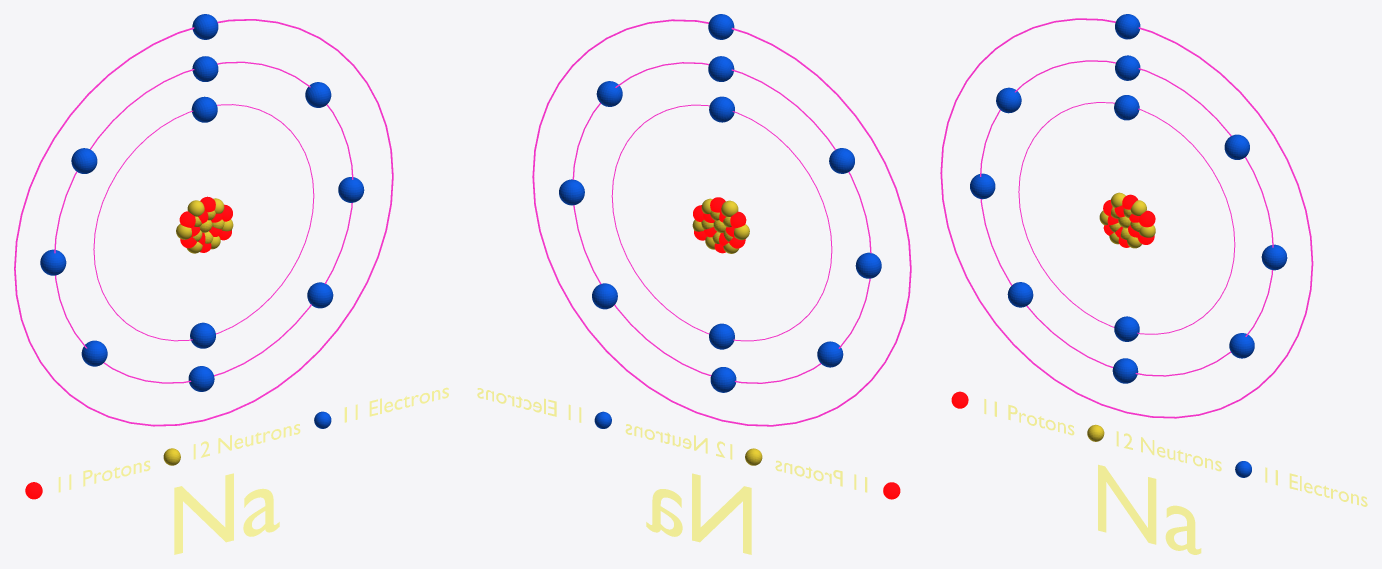
File: sodium.glb
3 views of the same model, side by side, from view 1: azimuth 30°, elevation 25°; view 2: azimuth 150°, elevation 25°; view 3: azimuth 330°, elevation 25° (orthographic).
Visible parts, largest first — view 1: BézierCircle.002, Text, BézierCircle.001, BézierCircle, Text.002, Text.003, Sphere.033, Sphere.002, Sphere.030, Sphere.026, Sphere.032, Sphere.016 (+5 smaller); view 2: BézierCircle.002, Text, BézierCircle.001, BézierCircle, Text.002, Text.003, Sphere.009, Sphere.016, Sphere.030, Sphere.002, Sphere.032, Sphere.001 (+5 smaller); view 3: BézierCircle.002, Text, BézierCircle.001, BézierCircle, Text.002, Text.003, Sphere.001, Sphere.009, Sphere.002, Sphere.030, Sphere.015, Sphere.016 (+5 smaller).
Boxes of the visible parts, x1=… form: BézierCircle.002: x1=14, y1=19, x2=393, y2=426; Text: x1=174, y1=473, x2=279, y2=554; BézierCircle.001: x1=54, y1=61, x2=353, y2=383; BézierCircle: x1=93, y1=104, x2=314, y2=341; Text.002: x1=193, y1=424, x2=300, y2=459; Text.003: x1=344, y1=387, x2=448, y2=422; Sphere.033: x1=192, y1=14, x2=218, y2=39; Sphere.002: x1=191, y1=96, x2=217, y2=122; Sphere.030: x1=307, y1=282, x2=333, y2=308; Sphere.026: x1=71, y1=148, x2=97, y2=173; Sphere.032: x1=188, y1=366, x2=214, y2=391; Sphere.016: x1=40, y1=249, x2=66, y2=275; BézierCircle.002: x1=532, y1=19, x2=911, y2=426; Text: x1=646, y1=473, x2=751, y2=554; BézierCircle.001: x1=572, y1=62, x2=871, y2=383; BézierCircle: x1=611, y1=104, x2=832, y2=341; Text.002: x1=625, y1=424, x2=732, y2=459; Text.003: x1=477, y1=388, x2=581, y2=422; Sphere.009: x1=559, y1=179, x2=584, y2=205; Sphere.016: x1=855, y1=252, x2=881, y2=278; Sphere.030: x1=592, y1=283, x2=617, y2=309; Sphere.002: x1=709, y1=96, x2=734, y2=122; Sphere.032: x1=710, y1=367, x2=736, y2=392; Sphere.001: x1=709, y1=323, x2=734, y2=349; BézierCircle.002: x1=940, y1=18, x2=1313, y2=418; Text: x1=1098, y1=464, x2=1201, y2=554; BézierCircle.001: x1=980, y1=60, x2=1273, y2=376; BézierCircle: x1=1018, y1=102, x2=1235, y2=334; Text.002: x1=1116, y1=431, x2=1221, y2=471; Text.003: x1=1265, y1=467, x2=1367, y2=506; Sphere.001: x1=1114, y1=316, x2=1139, y2=341; Sphere.009: x1=1261, y1=244, x2=1287, y2=270; Sphere.002: x1=1114, y1=95, x2=1139, y2=120; Sphere.030: x1=1229, y1=333, x2=1254, y2=358; Sphere.015: x1=1115, y1=55, x2=1140, y2=80; Sphere.016: x1=970, y1=173, x2=995, y2=199.
Size of the model in its own units: 4.62 by 5.42 by 0.2925.
